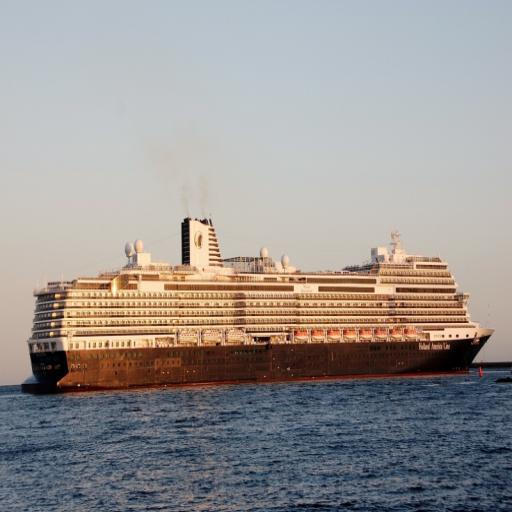cruises: (17, 210, 499, 398)
